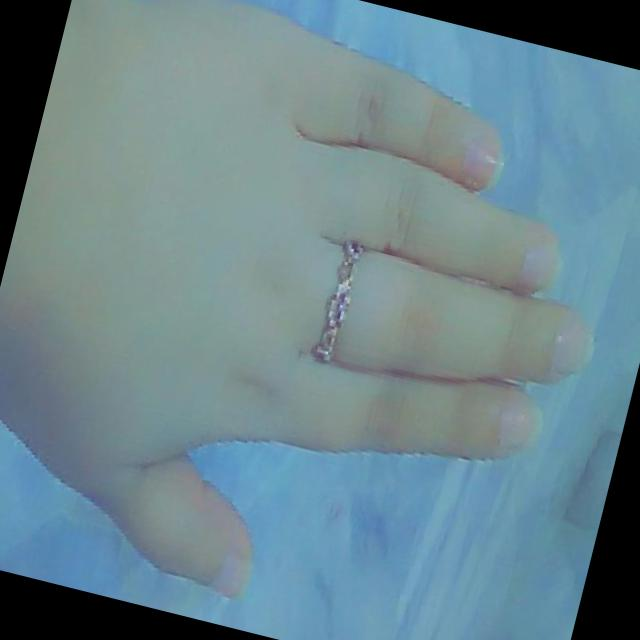Nail: (495, 394, 541, 458), (552, 317, 594, 372), (517, 240, 561, 292), (460, 140, 504, 189), (208, 554, 251, 597)
